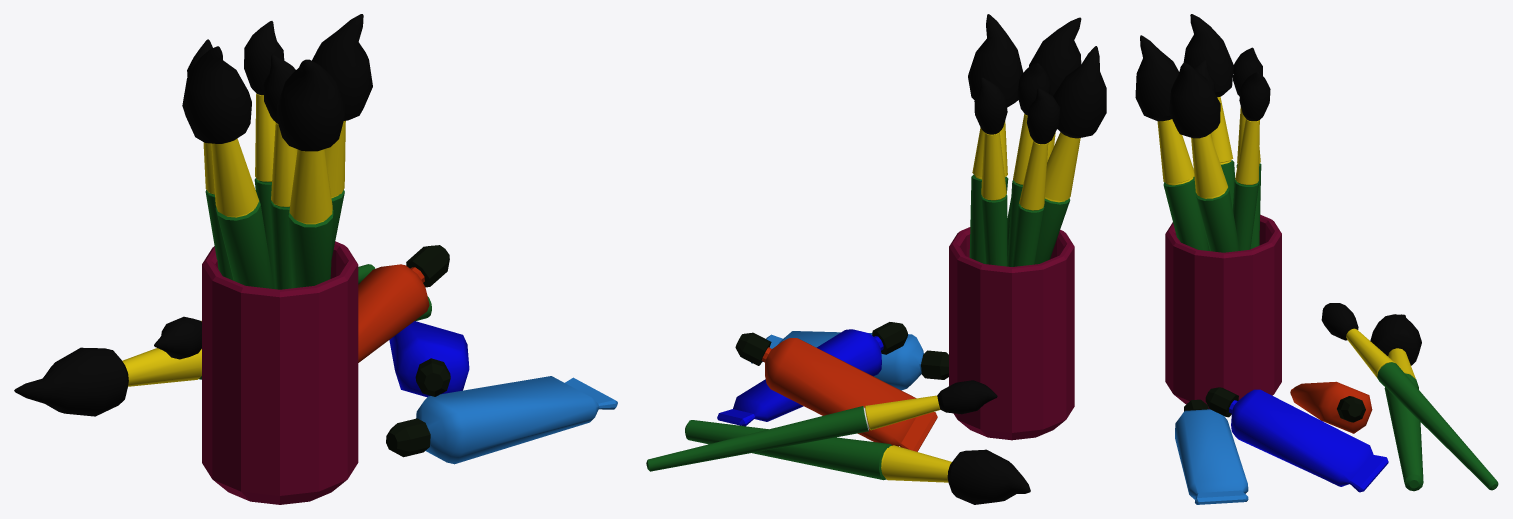
The model's file is Set of brushes.FBX.
3 views of the same model, side by side, from view 1: azimuth 30°, elevation 25°; view 2: azimuth 150°, elevation 25°; view 3: azimuth 270°, elevation 25° (orthographic). The views are drawn at different scales.
Parts seen in each view (by area): view 1: Set of brushes; view 2: Set of brushes; view 3: Set of brushes.
Part boxes in pixels (x1,y1,x2,y2): Set of brushes: [14, 14, 617, 504]; Set of brushes: [646, 14, 1106, 504]; Set of brushes: [1135, 14, 1498, 504].
Size of the model in its own units: 1152 by 1044 by 1120.
